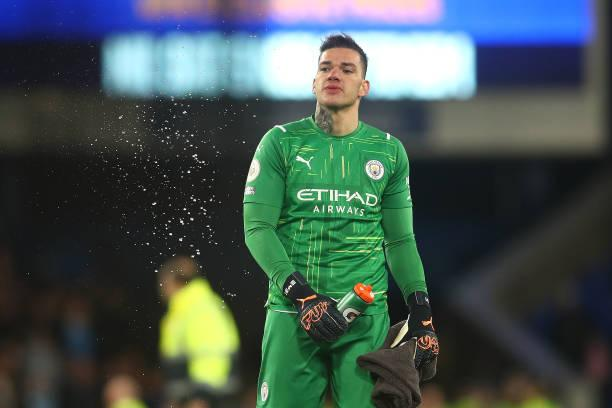Spitting: (166, 21, 388, 158)
